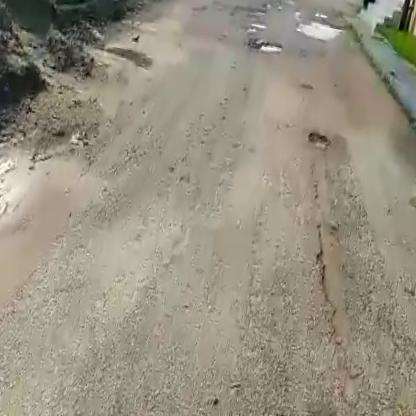pothole: (295, 16, 347, 44), (251, 34, 287, 56), (306, 127, 332, 150)
